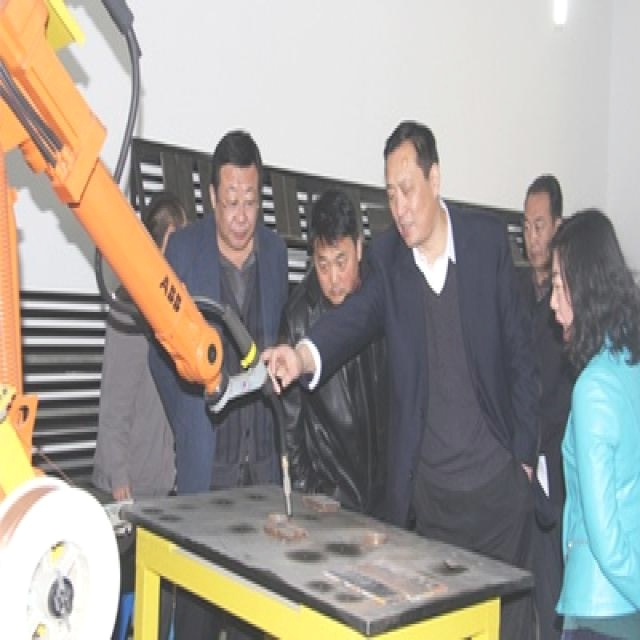Sin_Casco_Mascarrilla: (553, 210, 622, 359), (384, 123, 440, 240), (310, 192, 362, 304), (213, 131, 259, 243)
